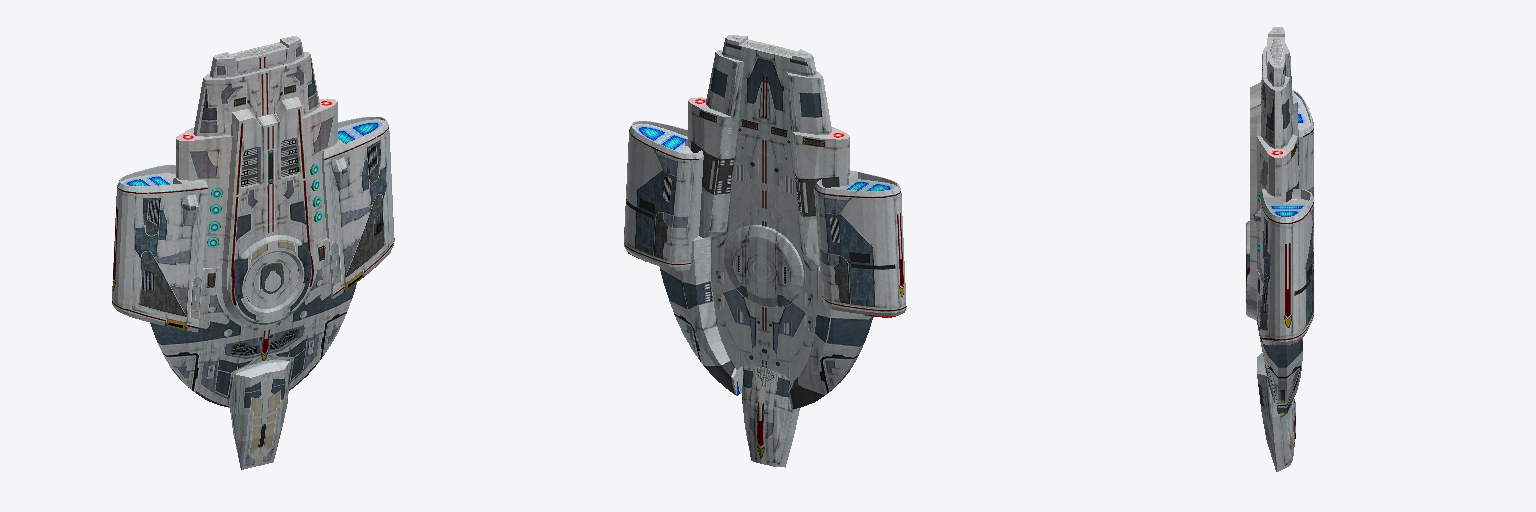
3 views of the same model, side by side, from view 1: azimuth 30°, elevation 25°; view 2: azimuth 150°, elevation 25°; view 3: azimuth 270°, elevation 25° (orthographic).
Parts seen in each view (by area): view 1: Nacelles; view 2: Nacelles; view 3: Nacelles.
Boxes of the visible parts, x1=… form: Nacelles: x1=112, y1=36, x2=394, y2=469; Nacelles: x1=624, y1=35, x2=906, y2=467; Nacelles: x1=1246, y1=27, x2=1313, y2=471.
Size of the model in its own units: 3.01 by 4.3 by 0.6428.
Materials: 2 (2 with a texture image).